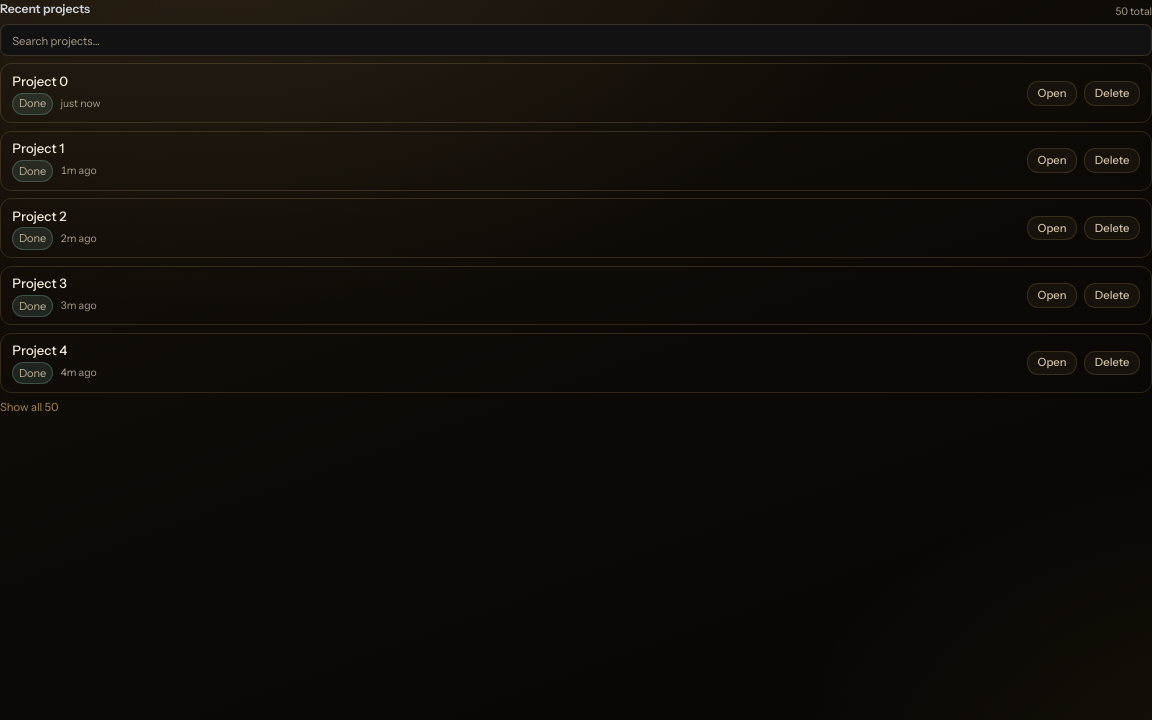
ProjectHistory with a long history › a search that matches nothing says so instead of rendering an empty list
Expected: the text "Project 0" is shown, [12,73,68,89]
Step 1. Type "zzzz" into the search field → (576, 40), box [0,24,1151,56]
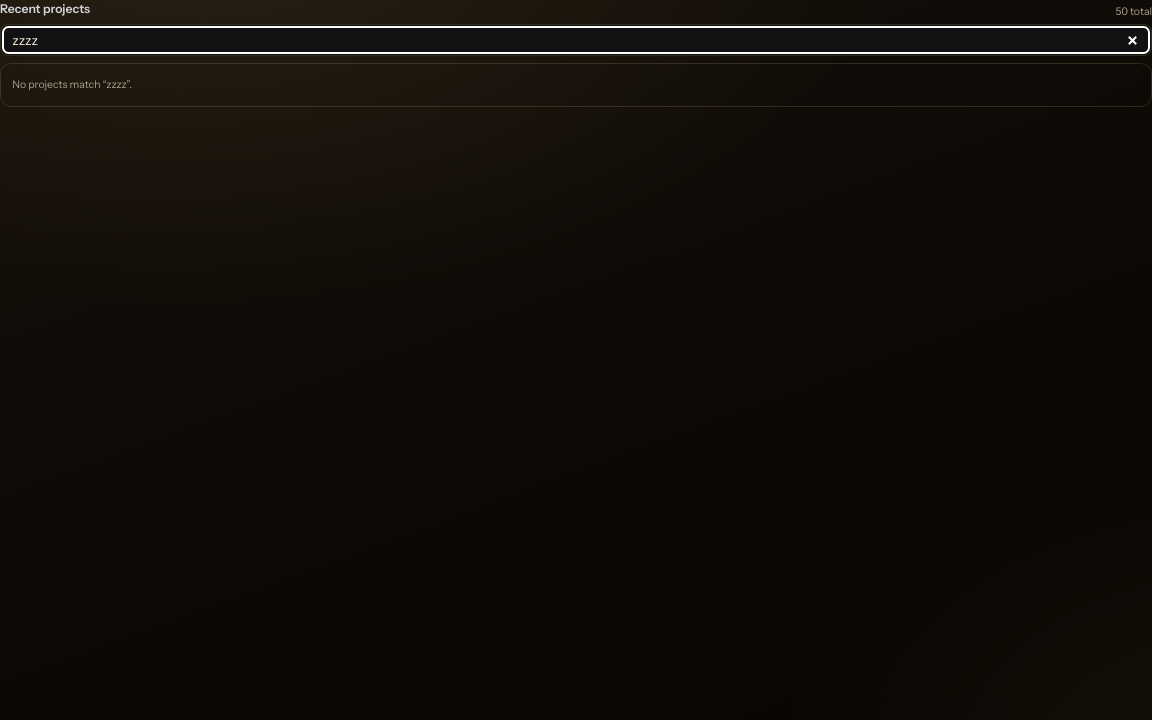
Expected: the text "No projects match “zzzz”." is shown, [0,63,1151,107]
